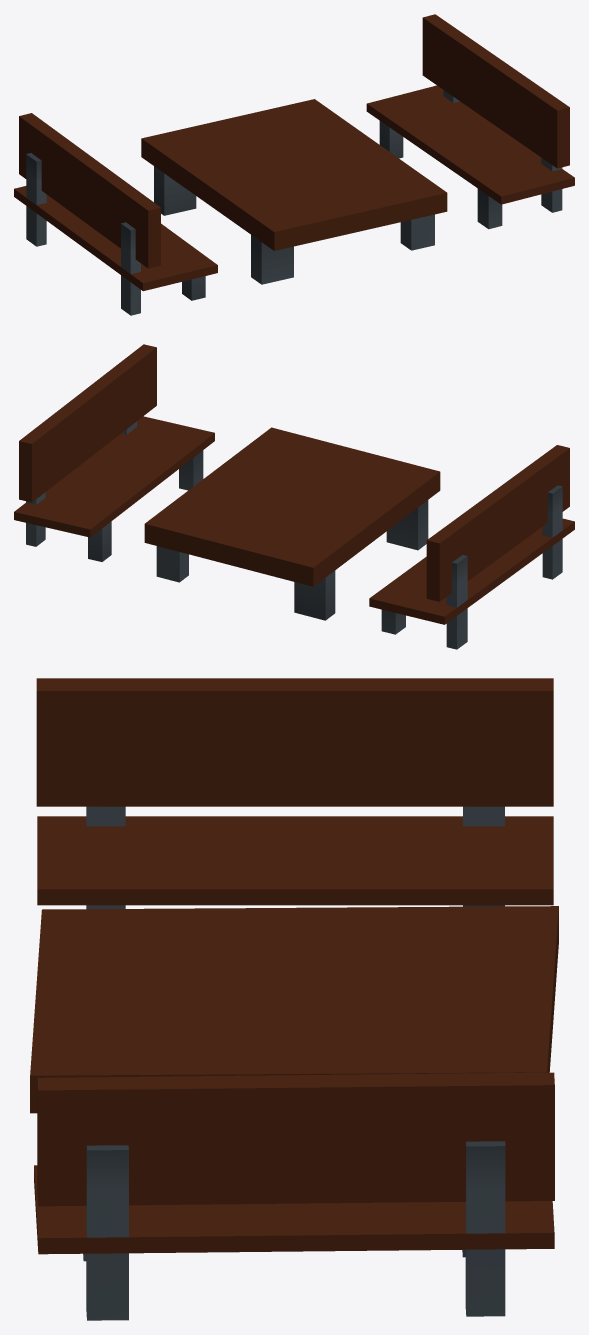
The model's file is Picnic.fbx.
The picture shows the model from 3 angles, top to bottom: view 1: azimuth 30°, elevation 25°; view 2: azimuth 150°, elevation 25°; view 3: azimuth 270°, elevation 25°; orthographic projection. The views are drawn at different scales.
Visible parts, largest first — view 1: BANCO PICNIC; view 2: BANCO PICNIC; view 3: BANCO PICNIC.
Boxes of the visible parts, x1=… form: BANCO PICNIC: x1=14, y1=14, x2=574, y2=315; BANCO PICNIC: x1=14, y1=344, x2=574, y2=649; BANCO PICNIC: x1=30, y1=678, x2=558, y2=1320.
Size of the model in its own units: 1409 by 358 by 747.
